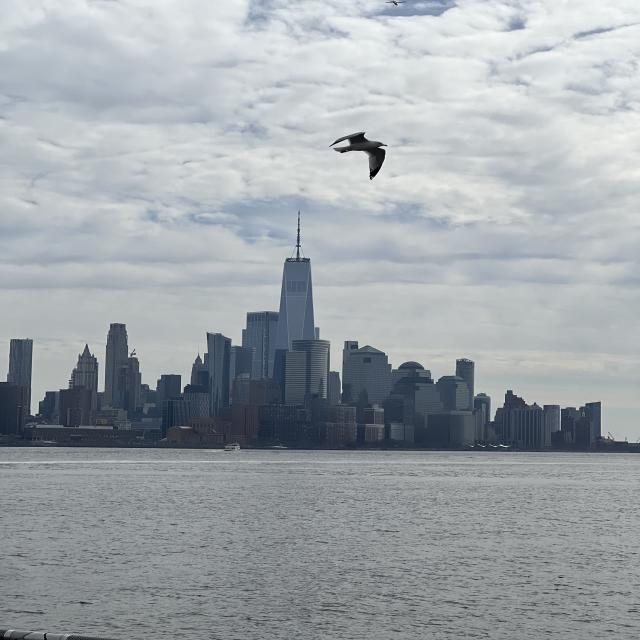WTC: (277, 212, 316, 341)
